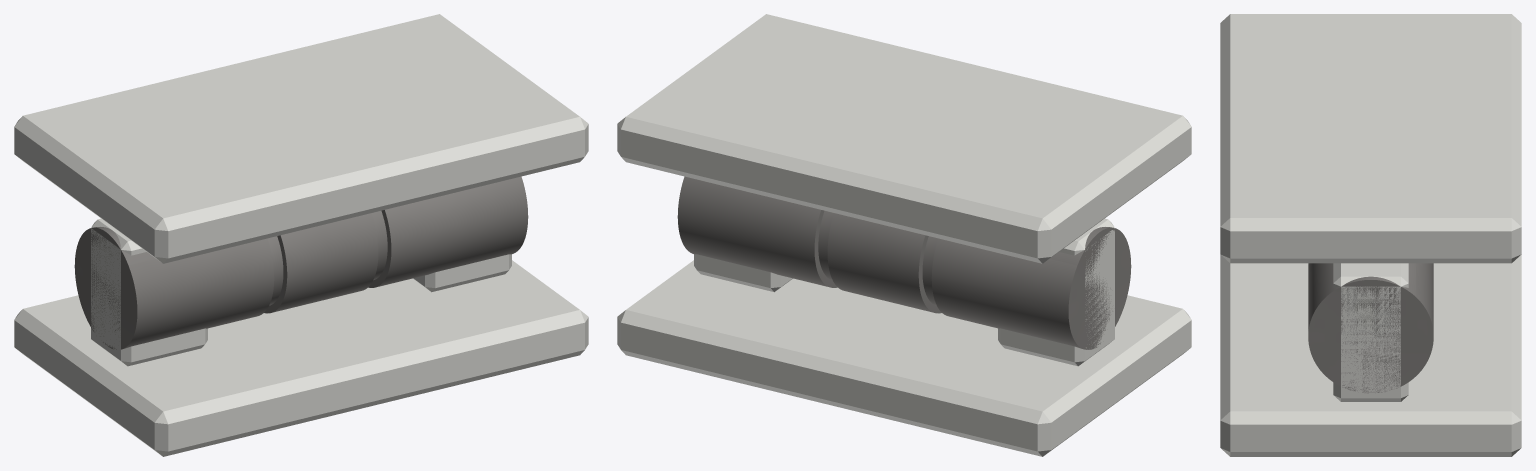
The model's file is ax_util_12_hinge_s.glb.
3 views of the same model, side by side, from view 1: azimuth 30°, elevation 25°; view 2: azimuth 150°, elevation 25°; view 3: azimuth 270°, elevation 25° (orthographic).
Visible parts, largest first — view 1: top_plate, base_leaf, knuckle_actuator, lugs, top_leaf; view 2: top_plate, base_leaf, knuckle_actuator, lugs, top_leaf; view 3: top_plate, base_leaf, knuckle_actuator, lugs, top_leaf.
Boxes of the visible parts, x1,y1,x2,y2 form: top_plate: (14, 14, 588, 263); base_leaf: (14, 260, 588, 456); knuckle_actuator: (74, 176, 528, 349); lugs: (91, 218, 511, 366); top_leaf: (206, 85, 394, 146); top_plate: (617, 14, 1191, 263); base_leaf: (617, 260, 1191, 456); knuckle_actuator: (677, 176, 1131, 349); lugs: (694, 218, 1114, 366); top_leaf: (810, 86, 999, 146); top_plate: (1220, 14, 1521, 263); base_leaf: (1220, 255, 1521, 456); knuckle_actuator: (1308, 263, 1433, 393); lugs: (1333, 263, 1408, 401); top_leaf: (1341, 76, 1400, 155).
Size of the model in its own units: 0.4 by 0.21 by 0.24.
2 materials, 1 textured.
